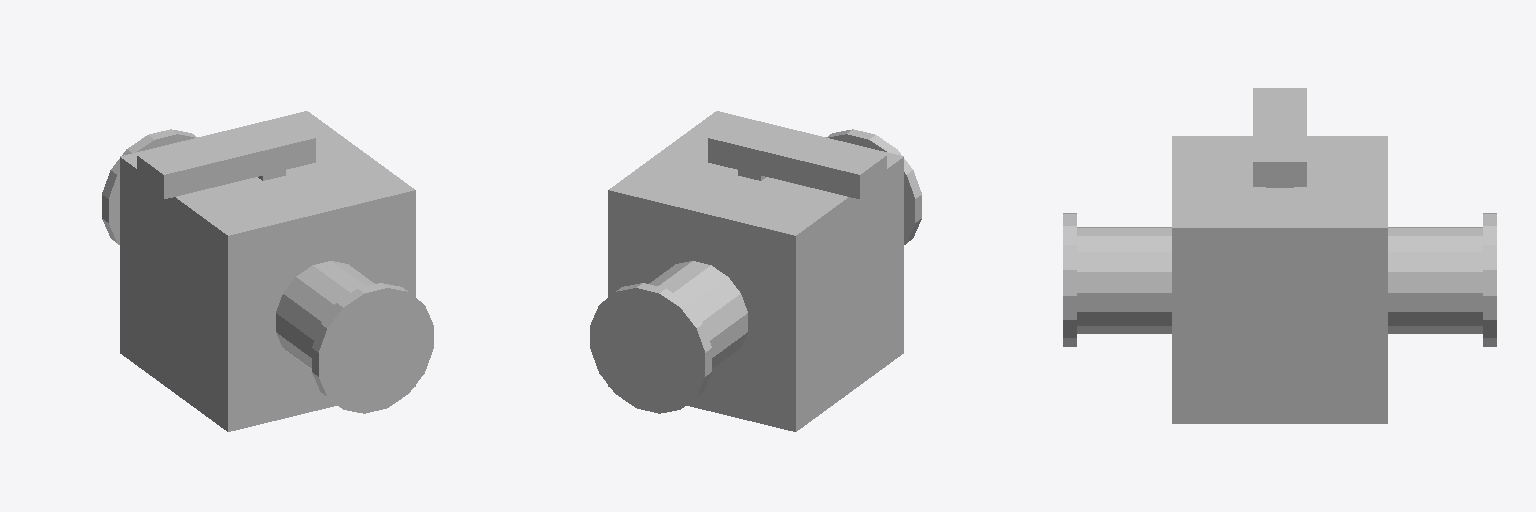
Rendered from pipeworks_valve_off.obj.
3 renders of one model, left to right at view 1: azimuth 30°, elevation 25°; view 2: azimuth 150°, elevation 25°; view 3: azimuth 270°, elevation 25°, orthographic.
Parts seen in each view (by area): view 1: Cube.003; view 2: Cube.003; view 3: Cube.003.
Part boxes in pixels (left/top/right/bottom): Cube.003: left=102, top=111, right=433, bottom=431; Cube.003: left=590, top=111, right=921, bottom=431; Cube.003: left=1063, top=88, right=1496, bottom=423.
Bounding box in the file's own units: 0.5625 × 0.5938 × 1.